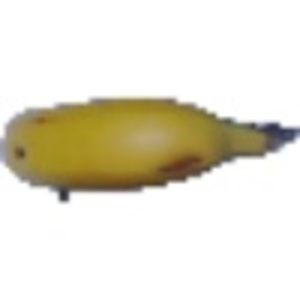banana: (2, 93, 292, 191)
